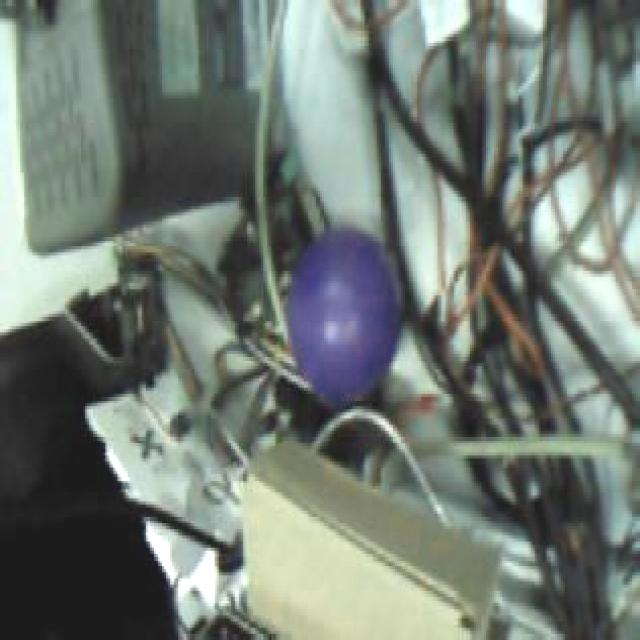BallPurple: (286, 228, 399, 404)
